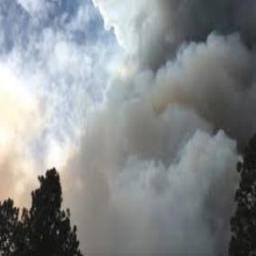Heavy smoke: (1, 4, 256, 256)
